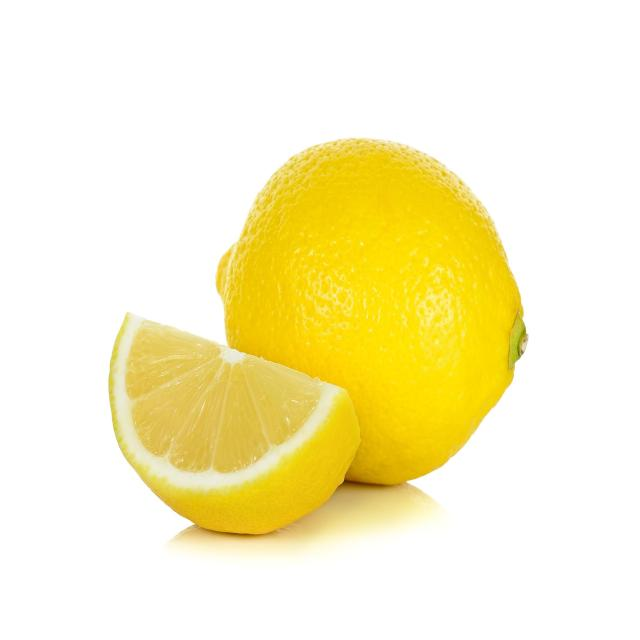lemon: (207, 129, 531, 492), (105, 307, 366, 544)
